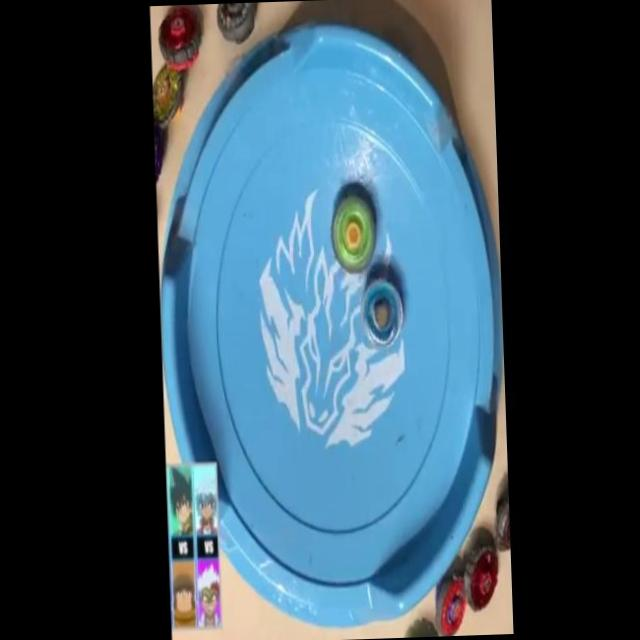Beyblade: (330, 194, 378, 276), (360, 278, 404, 349), (157, 4, 202, 71), (462, 545, 500, 613), (151, 62, 186, 131), (434, 569, 467, 636)
